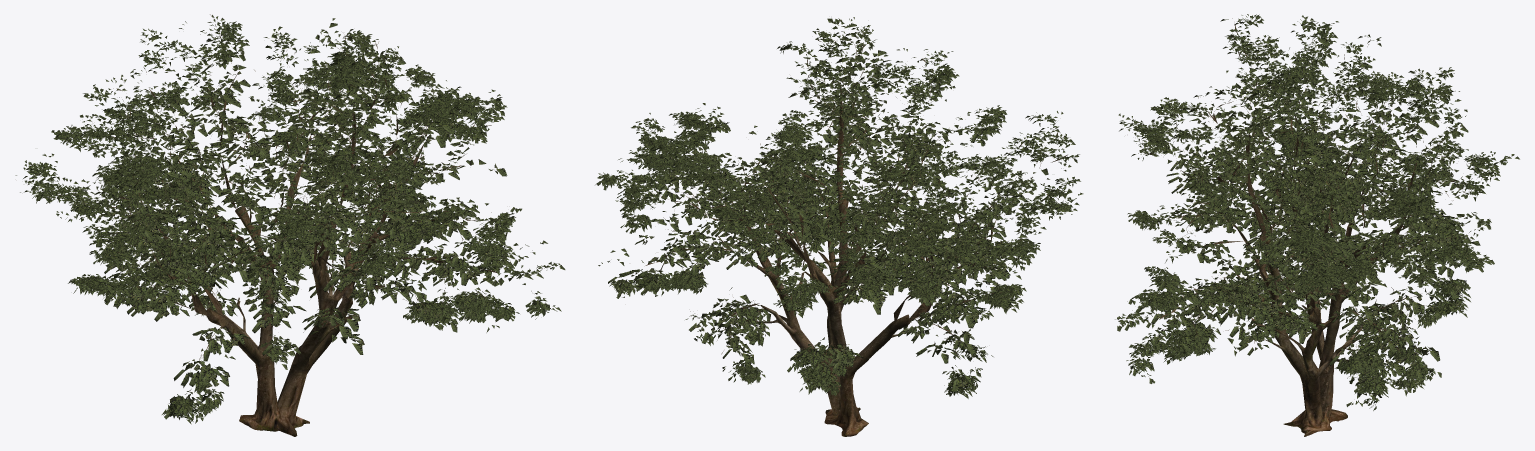
File: jacaranda_tree.glb
3 renders of one model, left to right at view 1: azimuth 30°, elevation 25°; view 2: azimuth 150°, elevation 25°; view 3: azimuth 270°, elevation 25°, orthographic. The views are drawn at different scales.
Visible parts, largest first — view 1: jacaranda_tree_LOD0; view 2: jacaranda_tree_LOD0; view 3: jacaranda_tree_LOD0.
Part boxes in pixels (<box>): jacaranda_tree_LOD0: <box>15,14,565,436</box>; jacaranda_tree_LOD0: <box>595,17,1083,436</box>; jacaranda_tree_LOD0: <box>1115,14,1519,436</box>.
Size of the model in its own units: 24.24 by 19.41 by 19.05.
3 materials, 3 textured.
